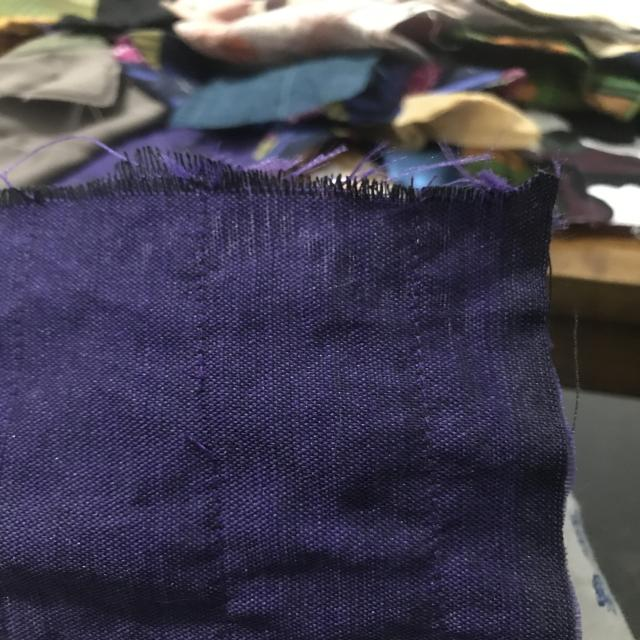broken: (171, 358, 246, 476)
